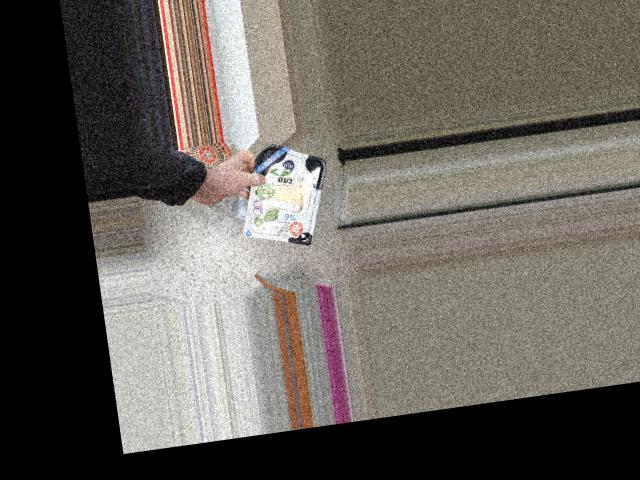cheese: (247, 146, 327, 244)
